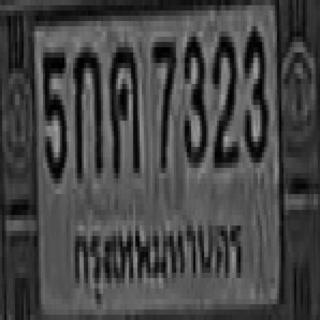A01: (73, 42, 101, 178)
A04: (108, 42, 138, 173)
N02: (210, 31, 236, 163)
N03: (182, 31, 206, 163), (243, 26, 266, 157)
N05: (42, 47, 66, 178)
N07: (150, 37, 174, 168)
P04: (66, 206, 248, 308)
